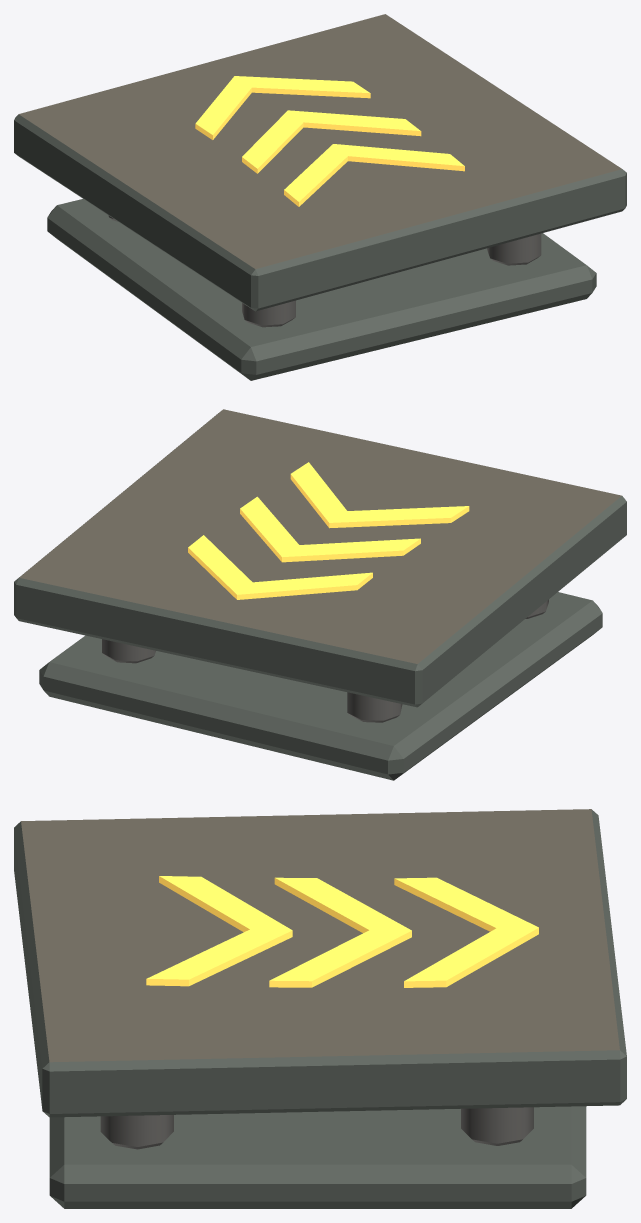
File: R4D_KnockbackTrap_LOD1.fbx
3 renders of one model, top to bottom at view 1: azimuth 30°, elevation 25°; view 2: azimuth 150°, elevation 25°; view 3: azimuth 270°, elevation 25°, orthographic. The views are drawn at different scales.
Visible parts, largest first — view 1: R4D_KnockbackTrap_LOD1; view 2: R4D_KnockbackTrap_LOD1; view 3: R4D_KnockbackTrap_LOD1.
Part boxes in pixels (<box>): R4D_KnockbackTrap_LOD1: <box>14,14,626,380</box>; R4D_KnockbackTrap_LOD1: <box>14,409,626,780</box>; R4D_KnockbackTrap_LOD1: <box>14,809,626,1208</box>.
Size of the model in its own units: 0.5027 by 0.156 by 0.5027.
